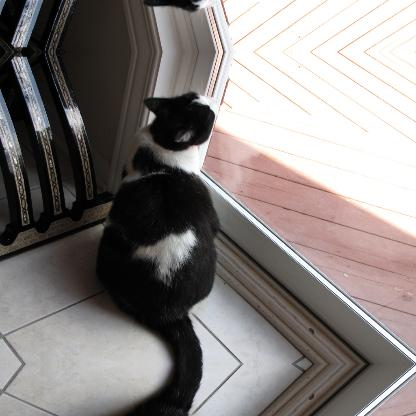Cat: (95, 80, 219, 362)
